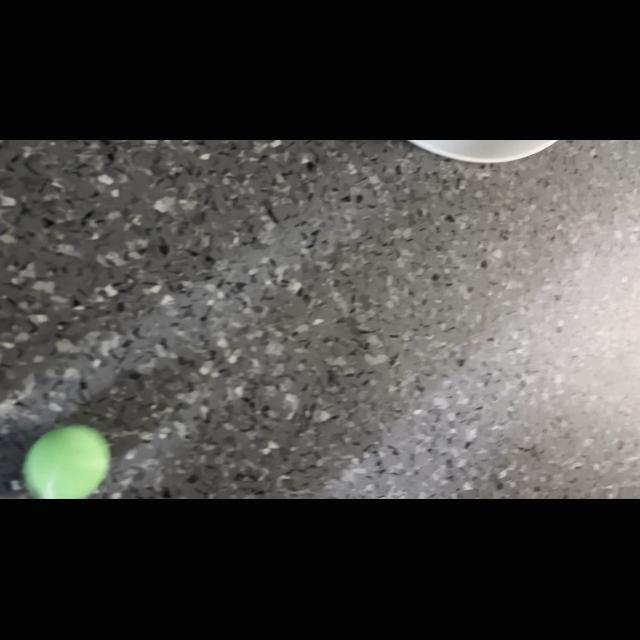objects: (18, 415, 122, 499)
